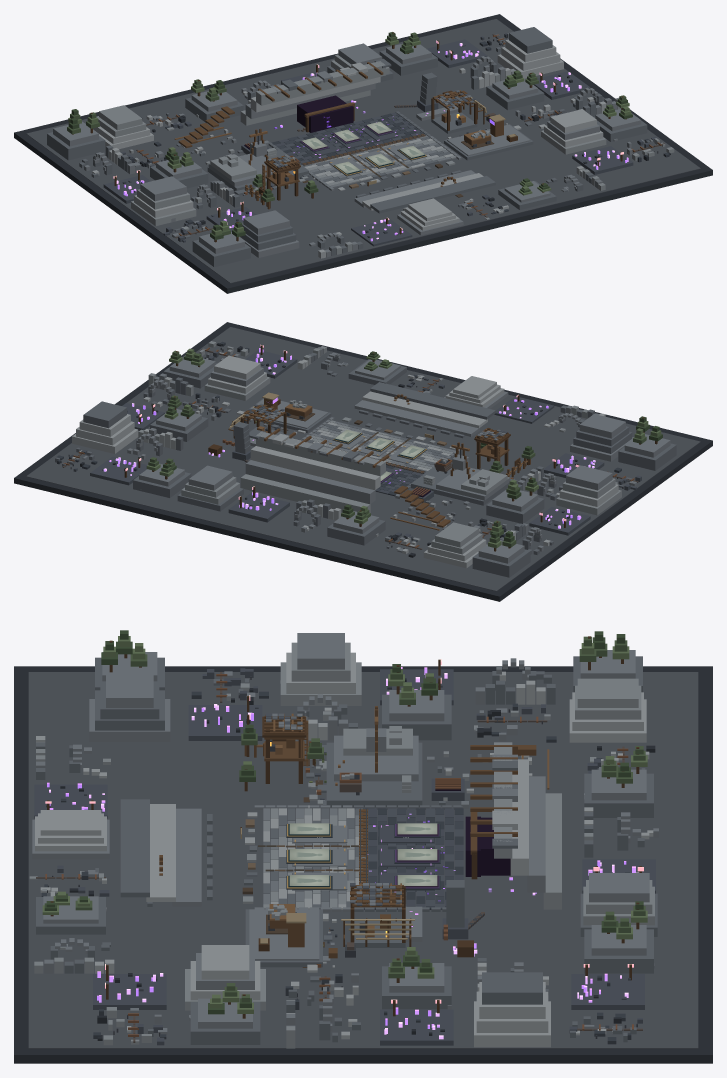
File: graystone-quarry.glb
3 views of the same model, one above another, from view 1: azimuth 30°, elevation 25°; view 2: azimuth 150°, elevation 25°; view 3: azimuth 270°, elevation 25° (orthographic). The views are drawn at different scales.
Parts seen in each view (by area): view 1: 01_Quarry_Floor_Base, Outer_Strata_Cliff, Outer_Pine_Outcrop, 00_Deep_Quarry_Bedrock, Outer_Crystal_Seep (×2), Outer_Retaining_Ruin, Landmark_Quarry_Mine_Rift, Outer_Rubble_And_Rails, 02_Central_Quarry_Slabs, South_Low_Terrace, 03_Enemy_Blast_Slate, West_Terraced_Quarry (+9 smaller); view 2: 01_Quarry_Floor_Base, Outer_Strata_Cliff, Outer_Pine_Outcrop, 00_Deep_Quarry_Bedrock, Landmark_Quarry_Mine_Rift, Outer_Crystal_Seep (×2), Outer_Retaining_Ruin, South_Low_Terrace, Outer_Rubble_And_Rails, 02_Central_Quarry_Slabs, West_Terraced_Quarry, West_Watchtower (+6 smaller); view 3: 01_Quarry_Floor_Base, Outer_Strata_Cliff, Outer_Pine_Outcrop, 00_Deep_Quarry_Bedrock, Outer_Crystal_Seep (×2), Outer_Retaining_Ruin, Landmark_Quarry_Mine_Rift, South_Low_Terrace, Outer_Rubble_And_Rails, 02_Central_Quarry_Slabs, West_Terraced_Quarry, 03_Enemy_Blast_Slate (+14 smaller).
Part boxes in pixels (bbox=[...]): 01_Quarry_Floor_Base: bbox=[26, 19, 700, 283]; Outer_Strata_Cliff: bbox=[93, 27, 606, 257]; Outer_Pine_Outcrop: bbox=[47, 32, 647, 267]; 00_Deep_Quarry_Bedrock: bbox=[14, 14, 712, 293]; Outer_Crystal_Seep (×2): bbox=[103, 39, 633, 246]; Outer_Retaining_Ruin: bbox=[79, 56, 620, 258]; Landmark_Quarry_Mine_Rift: bbox=[240, 58, 391, 132]; Outer_Rubble_And_Rails: bbox=[121, 33, 674, 242]; 02_Central_Quarry_Slabs: bbox=[302, 135, 456, 187]; South_Low_Terrace: bbox=[354, 170, 495, 213]; 03_Enemy_Blast_Slate: bbox=[271, 112, 425, 164]; West_Terraced_Quarry: bbox=[207, 149, 308, 190]; 01_Quarry_Floor_Base: bbox=[26, 327, 700, 591]; Outer_Strata_Cliff: bbox=[72, 355, 633, 568]; Outer_Pine_Outcrop: bbox=[133, 348, 676, 577]; 00_Deep_Quarry_Bedrock: bbox=[14, 322, 712, 601]; Landmark_Quarry_Mine_Rift: bbox=[240, 430, 385, 512]; Outer_Crystal_Seep (×2): bbox=[90, 344, 604, 535]; Outer_Retaining_Ruin: bbox=[127, 346, 605, 554]; South_Low_Terrace: bbox=[354, 382, 495, 436]; Outer_Rubble_And_Rails: bbox=[55, 341, 641, 557]; 02_Central_Quarry_Slabs: bbox=[306, 420, 455, 472]; West_Terraced_Quarry: bbox=[411, 465, 511, 505]; West_Watchtower: bbox=[474, 428, 510, 468]; 01_Quarry_Floor_Base: bbox=[28, 672, 698, 1048]; Outer_Strata_Cliff: bbox=[32, 633, 657, 1047]; Outer_Pine_Outcrop: bbox=[36, 630, 654, 1044]; 00_Deep_Quarry_Bedrock: bbox=[14, 666, 712, 1063]; Outer_Crystal_Seep (×2): bbox=[34, 659, 655, 1045]; Outer_Retaining_Ruin: bbox=[34, 658, 658, 1048]; Landmark_Quarry_Mine_Rift: bbox=[465, 742, 561, 909]; South_Low_Terrace: bbox=[120, 799, 201, 906]; Outer_Rubble_And_Rails: bbox=[29, 668, 655, 1045]; 02_Central_Quarry_Slabs: bbox=[258, 808, 362, 909]; West_Terraced_Quarry: bbox=[326, 728, 422, 807]; 03_Enemy_Blast_Slate: bbox=[364, 808, 463, 909].
Bounding box in the file's own units: 50 × 4.82 × 38.
82 materials, 1 textured.
